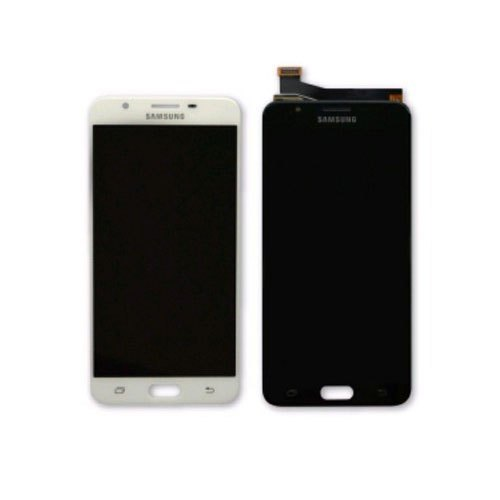phone: (81, 88, 246, 419), (255, 87, 416, 412)
